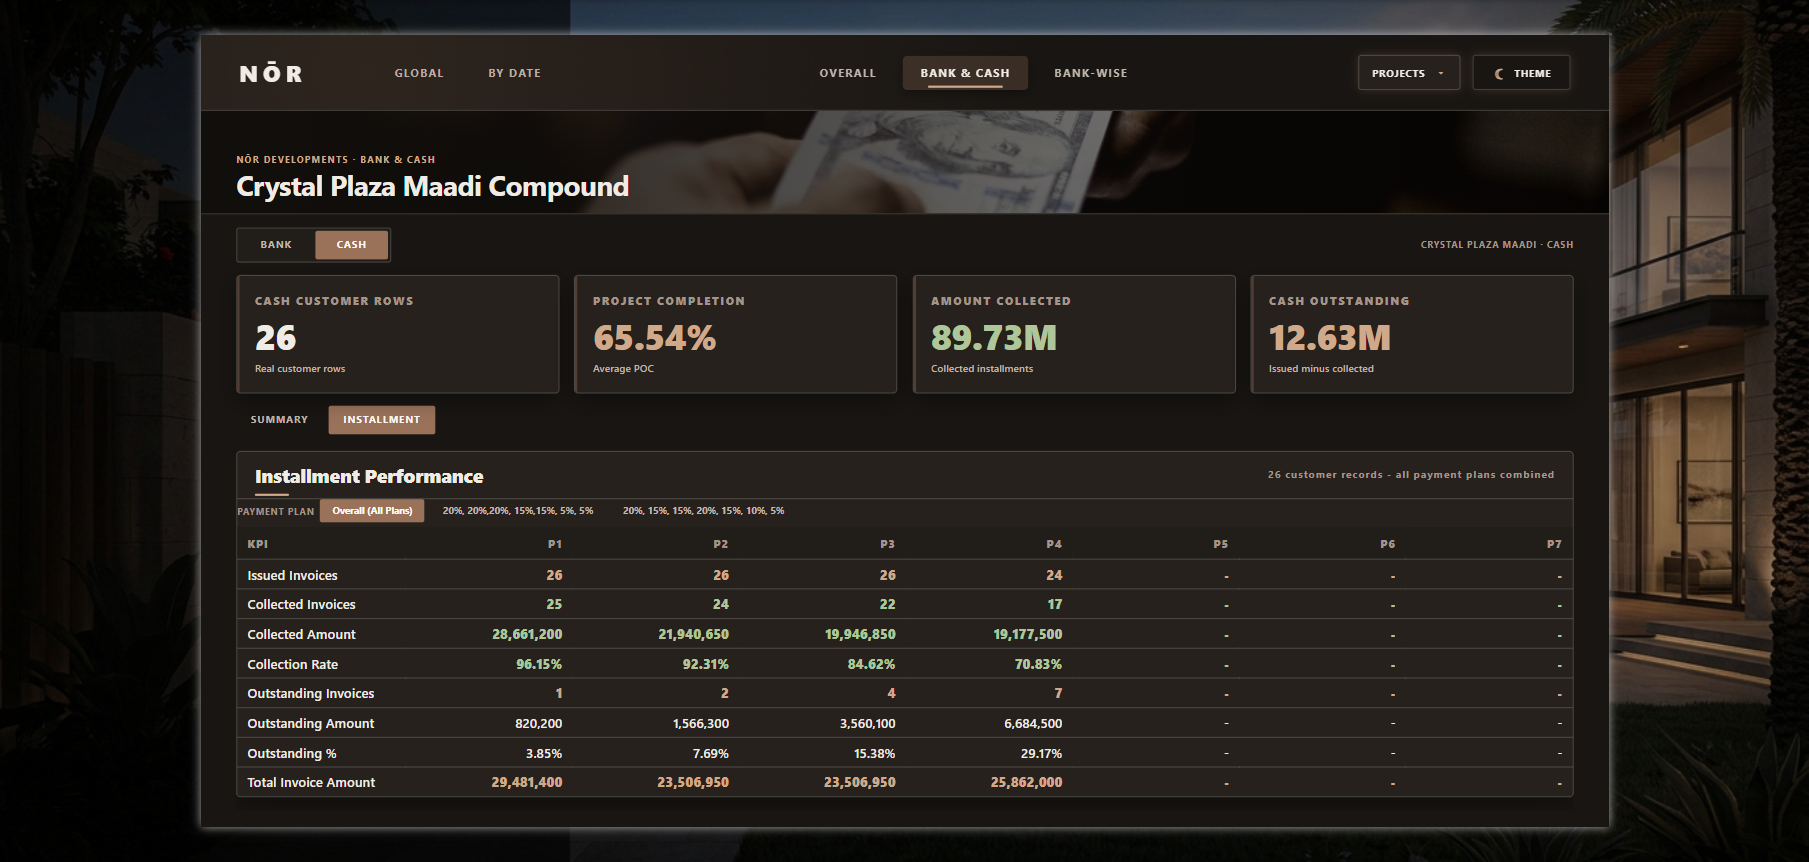

What the dashboard file says about the page in this screenshot:
{"tool":"powerbi","page":{"name":"Crystal Plaza Maadi","canvas":[1280,720],"ordinal":3},"visuals":[{"type":"htmlContent443BE3AD55E043BF878BED274D3A6855","fields":{"content":["HTML Visuals.HTML_CrystalPlaza_OnePage"]},"box":[0,0,1280,720],"z":0}]}

Visuals, with their boxes on the page's 1280x720 design canvas (x1, y1, x2, y2). These are canvas units, not pixel positions in the 1809x862 screenshot, which may show the page scaled, cropped or inside an application window:
htmlContent443BE3AD55E043BF878BED274D3A6855 - HTML Visuals.HTML_CrystalPlaza_OnePage: box=[0, 0, 1280, 720]
